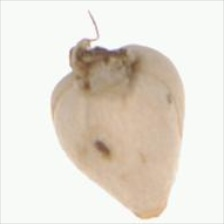L4: (50, 43, 185, 219)
